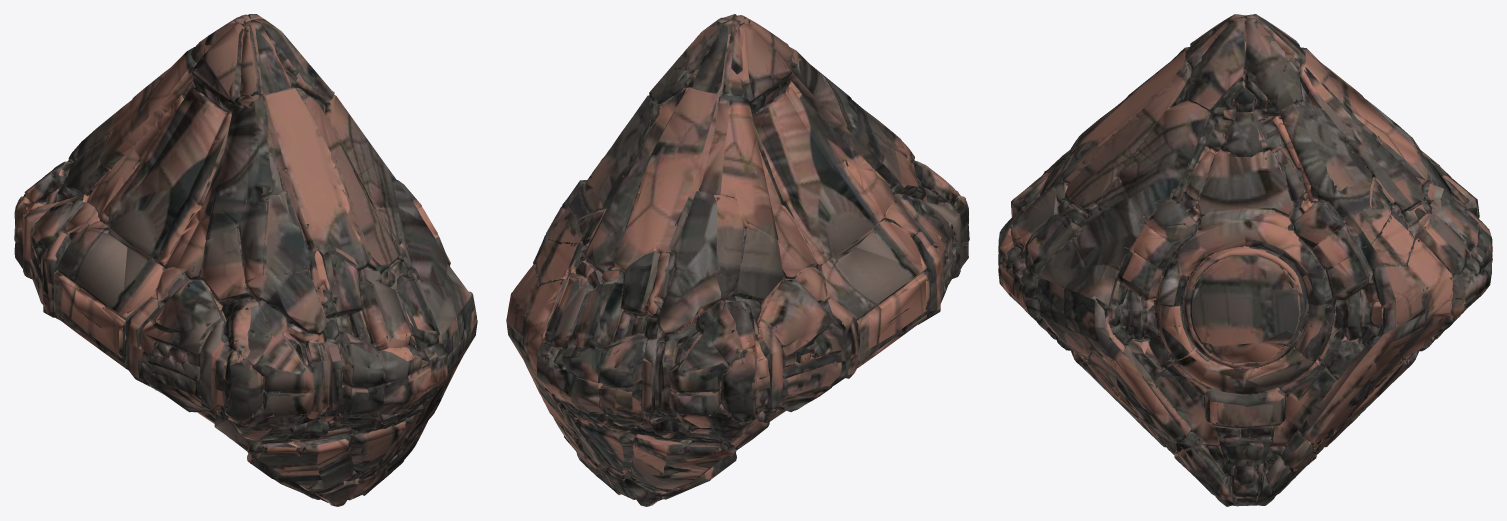
File: arc-sunder-lean.glb
3 views of the same model, side by side, from view 1: azimuth 30°, elevation 25°; view 2: azimuth 150°, elevation 25°; view 3: azimuth 270°, elevation 25° (orthographic). The views are drawn at different scales.
Parts seen in each view (by area): view 1: chassis; view 2: chassis; view 3: chassis.
Part boxes in pixels (<box>): chassis: <box>14,14,477,506</box>; chassis: <box>506,14,969,506</box>; chassis: <box>998,14,1492,506</box>.
Bounding box in the file's own units: 0.6759 × 0.9884 × 0.9891.
1 material, 1 textured.
